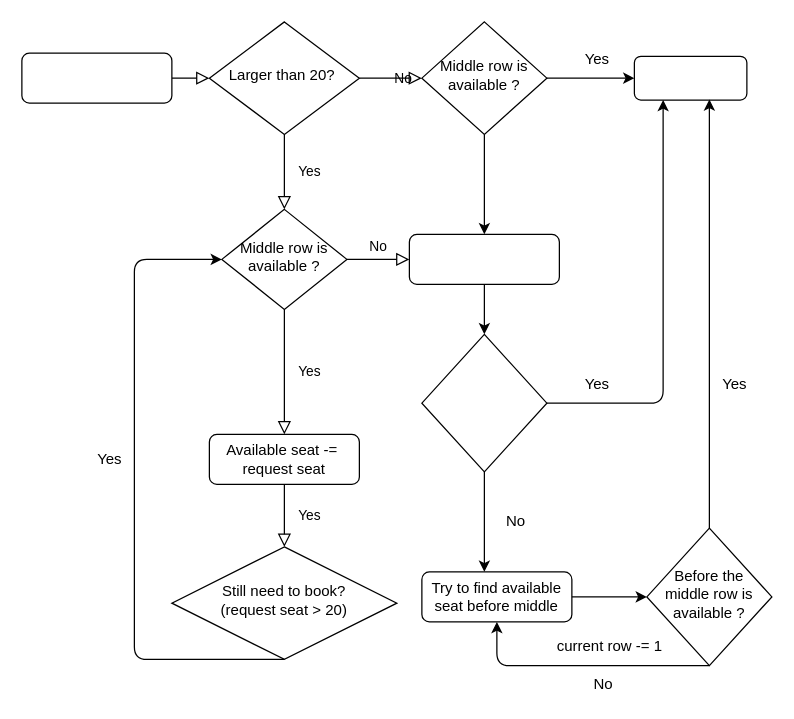
This 794x719 diagram has some shape labels left out. The shapes that lost their labels are listed below. From the top down, each one's centre as x and y in pixels, then its label:
At (96,77): "A request".
At (690,77): "Book Done".
At (483,258): "Find the available row behind the middle".
At (484,402): "Behind the middle row is available ?".
